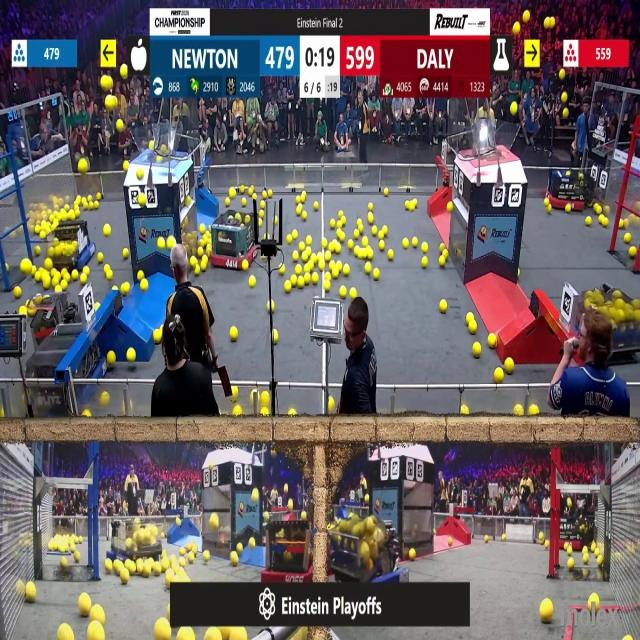ball_airborne: (102, 75, 112, 88), (106, 97, 116, 110), (77, 160, 86, 174), (119, 65, 127, 79), (523, 9, 531, 22), (514, 23, 522, 35), (543, 18, 551, 30), (252, 489, 259, 502), (512, 102, 518, 116), (561, 93, 568, 104), (116, 119, 122, 131), (162, 144, 168, 155), (287, 499, 293, 510), (122, 162, 128, 173), (563, 108, 569, 118), (559, 70, 565, 80), (138, 170, 144, 180), (148, 141, 154, 150), (566, 498, 572, 507), (284, 484, 289, 494), (155, 155, 161, 161), (490, 109, 494, 118)
ball_ground: (540, 600, 552, 622), (79, 594, 90, 616), (92, 605, 104, 623), (89, 624, 102, 640), (60, 626, 74, 640), (27, 585, 37, 603), (182, 628, 194, 640), (494, 367, 504, 381), (22, 260, 32, 274), (101, 392, 109, 408), (210, 514, 218, 530), (503, 358, 512, 372), (134, 562, 143, 576), (472, 343, 480, 358), (128, 348, 136, 362), (488, 335, 496, 349), (153, 331, 161, 345), (120, 569, 128, 583), (127, 561, 136, 573), (120, 283, 129, 294), (515, 407, 524, 418), (441, 300, 448, 314), (108, 351, 115, 365), (140, 280, 148, 292), (468, 322, 476, 334), (166, 571, 174, 583), (113, 560, 121, 572), (231, 327, 238, 340), (232, 386, 239, 399), (327, 397, 333, 412), (629, 247, 637, 258), (248, 537, 256, 548), (341, 286, 348, 298), (13, 286, 20, 298), (232, 554, 239, 566), (43, 277, 50, 289), (168, 237, 175, 249), (284, 282, 291, 294), (45, 258, 52, 270), (159, 238, 166, 250), (305, 274, 312, 286), (329, 240, 336, 252), (163, 558, 170, 570), (530, 407, 538, 417), (294, 266, 302, 276), (460, 407, 468, 417), (304, 264, 312, 274), (338, 232, 346, 242), (63, 272, 71, 282), (273, 332, 279, 345), (290, 276, 296, 289), (312, 274, 319, 285), (440, 256, 447, 267), (421, 256, 428, 267), (410, 550, 417, 561), (364, 264, 371, 275), (336, 243, 343, 254), (344, 266, 350, 278), (324, 280, 330, 292), (297, 276, 303, 288), (366, 248, 372, 260), (187, 552, 193, 564), (204, 552, 211, 562), (249, 277, 256, 287), (466, 312, 473, 322), (235, 408, 242, 418), (349, 288, 356, 298), (106, 271, 113, 281), (98, 252, 105, 262), (374, 270, 381, 280), (193, 267, 200, 277), (595, 205, 602, 215), (302, 252, 309, 262), (354, 247, 361, 257), (51, 278, 58, 288), (324, 251, 331, 261), (122, 248, 128, 259), (388, 249, 394, 260), (104, 224, 110, 235), (568, 559, 574, 570), (106, 560, 112, 571), (292, 251, 298, 262), (189, 255, 195, 266), (179, 558, 186, 567), (237, 543, 244, 552), (324, 272, 331, 281), (596, 557, 603, 566), (178, 567, 185, 576), (243, 262, 249, 272), (413, 238, 419, 248), (402, 239, 408, 249), (380, 241, 386, 251), (625, 234, 631, 244), (19, 306, 25, 316), (602, 216, 608, 226), (319, 262, 325, 272), (314, 202, 320, 212), (35, 272, 41, 282), (422, 243, 428, 253), (362, 237, 368, 247), (298, 242, 304, 252), (584, 555, 590, 565), (72, 271, 78, 281), (80, 275, 86, 285), (62, 280, 68, 290), (295, 205, 301, 215), (328, 263, 334, 273), (198, 247, 204, 257), (62, 557, 68, 567), (358, 223, 364, 233), (589, 600, 594, 612), (47, 247, 53, 257), (231, 188, 237, 198), (299, 512, 305, 522), (82, 412, 90, 419), (288, 410, 295, 418), (296, 194, 303, 202), (94, 202, 101, 210), (262, 410, 270, 417), (587, 216, 593, 225), (348, 240, 354, 249), (138, 272, 144, 281), (35, 247, 41, 256), (331, 271, 337, 280), (180, 546, 186, 555), (307, 237, 313, 246), (202, 256, 208, 265), (36, 295, 42, 304), (379, 231, 385, 240), (620, 219, 626, 228), (566, 546, 572, 555), (411, 201, 417, 210), (367, 213, 372, 223), (371, 225, 376, 235), (448, 203, 453, 213), (268, 302, 273, 312), (201, 223, 206, 233), (292, 229, 297, 239), (183, 575, 190, 582), (354, 232, 360, 240), (322, 240, 328, 248), (566, 206, 572, 214), (259, 201, 265, 209), (403, 202, 409, 210), (56, 284, 62, 292), (286, 236, 292, 244), (303, 212, 309, 220), (338, 210, 344, 218), (448, 536, 453, 545), (75, 553, 80, 562), (367, 203, 372, 212), (280, 267, 285, 276), (538, 532, 543, 541), (338, 263, 343, 272), (596, 599, 600, 610), (443, 250, 449, 257), (356, 218, 362, 225), (40, 232, 46, 239), (543, 200, 548, 208), (83, 268, 88, 276), (224, 199, 229, 207), (545, 206, 550, 214), (0, 410, 4, 420), (269, 189, 274, 197), (97, 192, 102, 200), (330, 218, 334, 228), (275, 216, 280, 224), (176, 519, 181, 527), (71, 543, 76, 551), (338, 220, 343, 228), (384, 224, 388, 233), (104, 266, 109, 273), (252, 193, 257, 200), (543, 540, 548, 547), (441, 244, 446, 251), (242, 200, 246, 208), (384, 188, 388, 196), (259, 210, 263, 218), (258, 218, 262, 226), (501, 538, 506, 544), (486, 538, 490, 545), (32, 267, 36, 274), (626, 636, 632, 640)
goal: (466, 124, 521, 160), (131, 128, 186, 160)
robot_blue: (327, 519, 405, 594), (580, 288, 640, 366), (110, 520, 166, 568), (52, 217, 95, 271)
robot_red: (264, 521, 310, 585), (212, 211, 258, 270), (28, 290, 80, 342), (546, 167, 589, 210), (556, 503, 594, 551)
